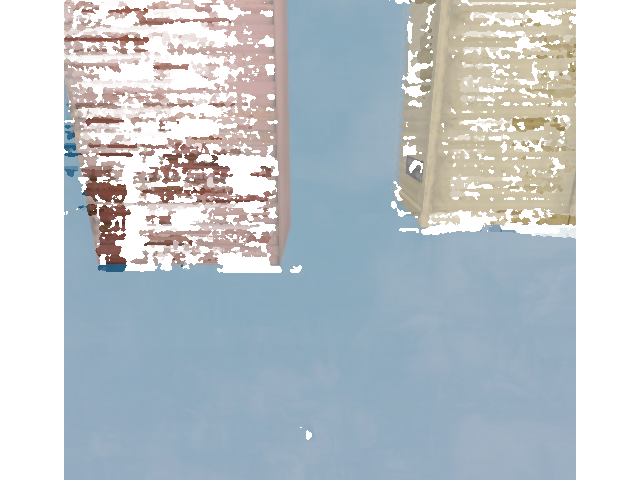container3: (391, 0, 640, 232)
container4: (40, 0, 304, 278)
